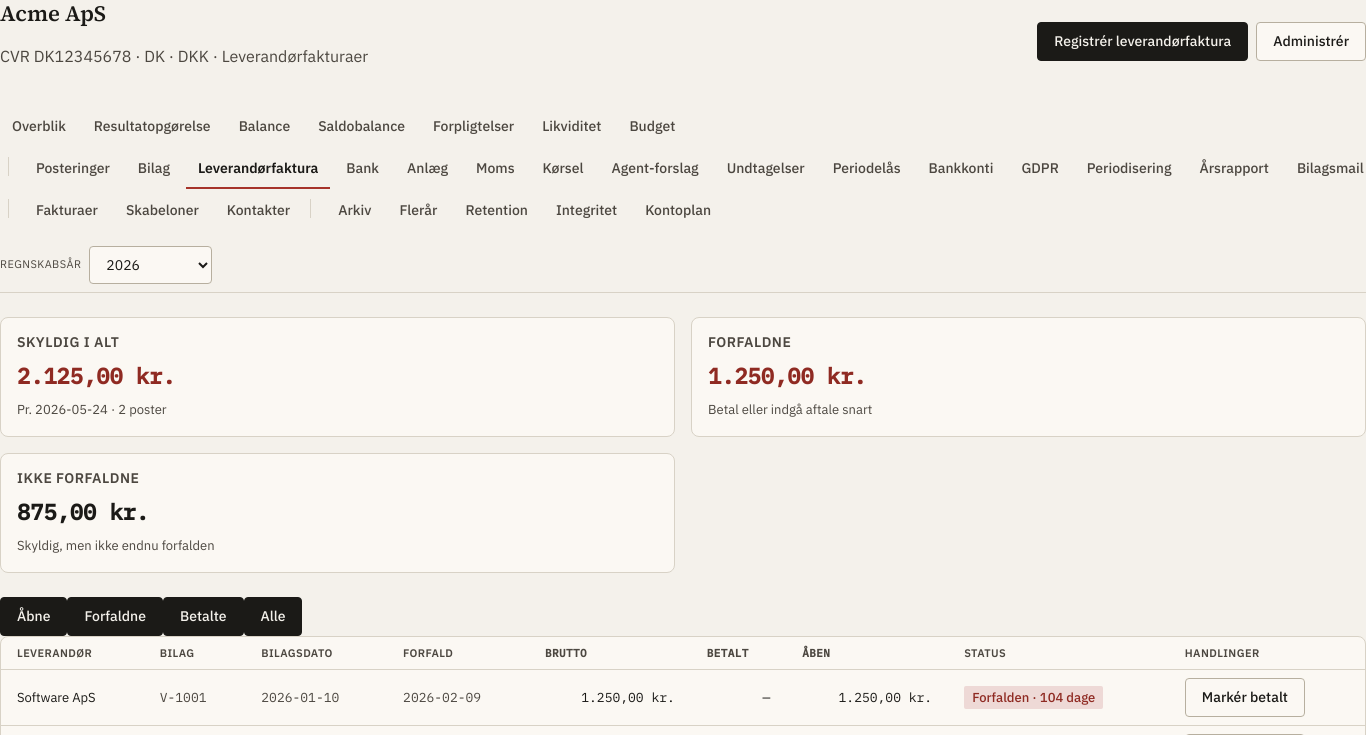
PayablesView — Leverandørfaktura-arbejdsbordet › pay rejects a blank/non-numeric bank id with a friendly message
Click the button "Markér betalt" in the row of "Software ApS".
click(1245, 698)  # box [1185, 678, 1305, 717]
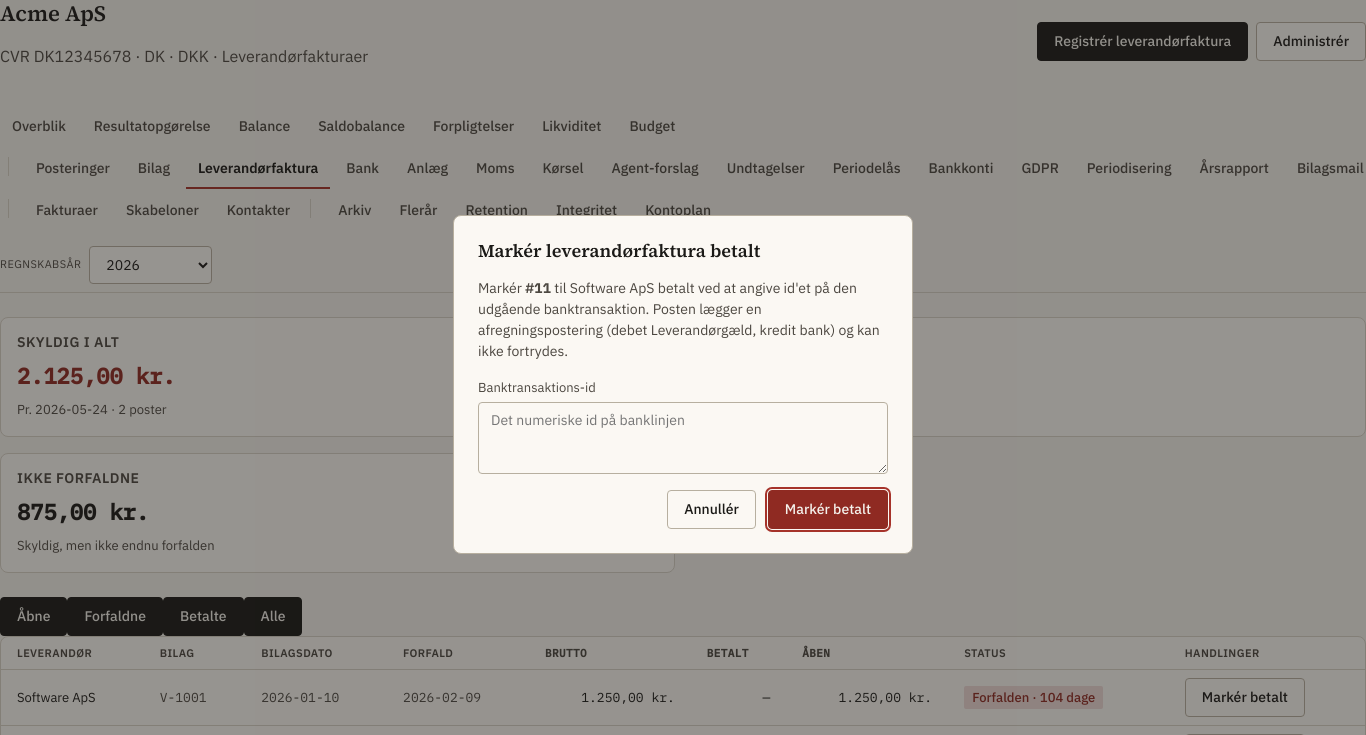
Click the button "Markér betalt".
click(828, 509)  # box [768, 490, 888, 528]
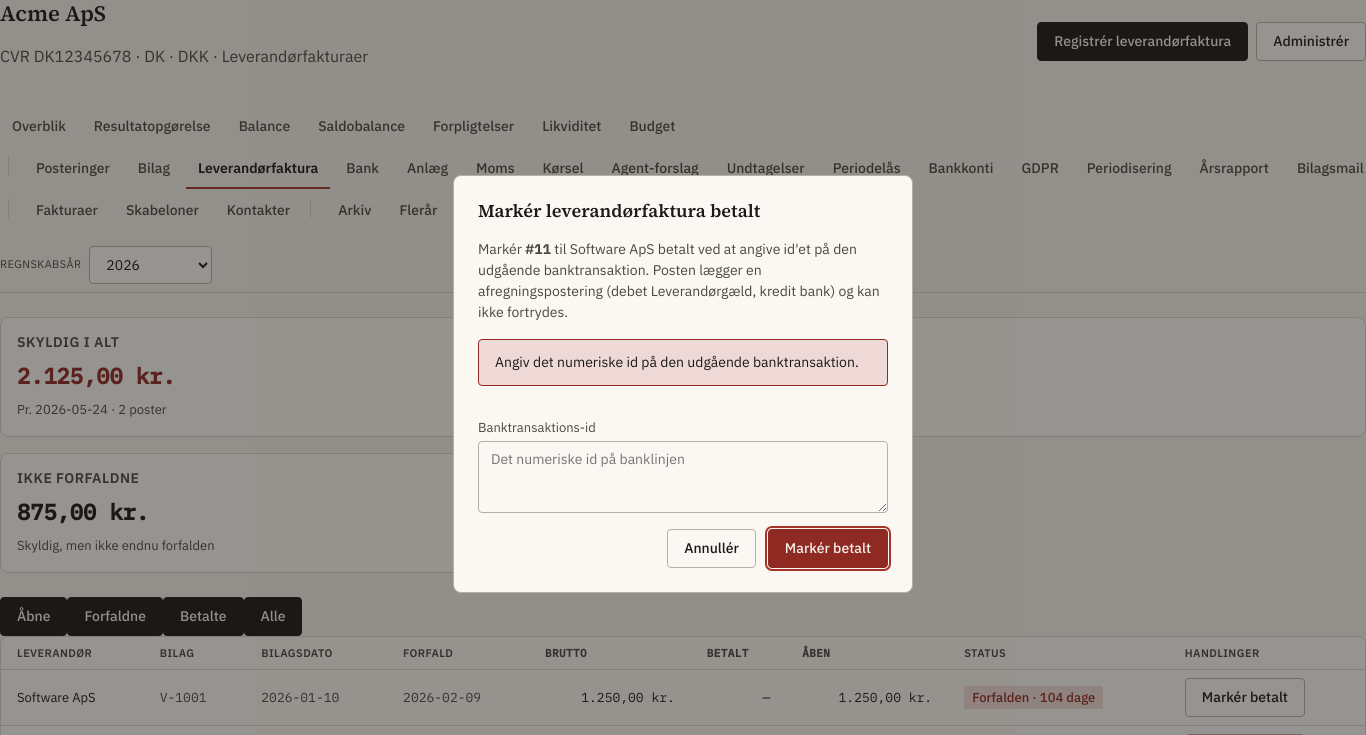
Check: the text "Angiv det numeriske id på den udgående banktransaktion." is shown, box [478, 338, 888, 386]
